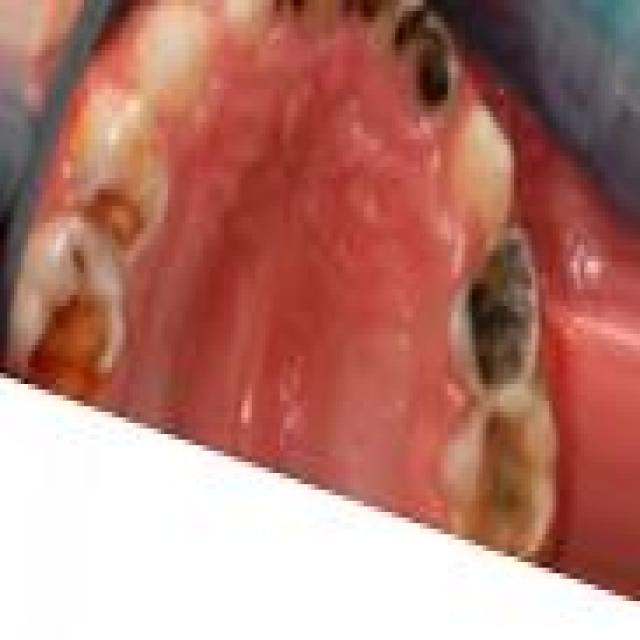caries: (443, 216, 546, 398), (13, 218, 123, 384), (440, 395, 560, 543), (385, 0, 473, 139), (76, 127, 166, 262)
